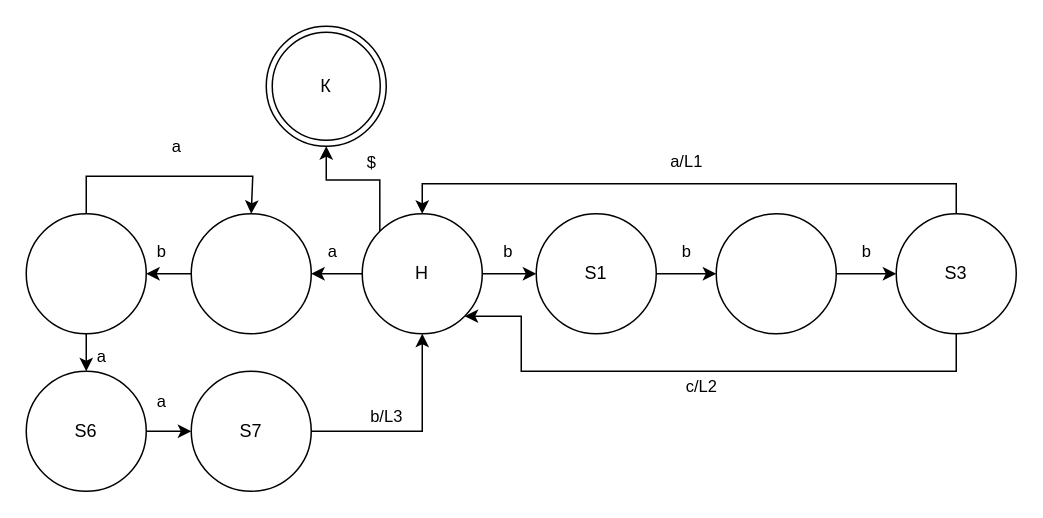
The diagram is 1043 pixels wide and 518 high, and some of its shapes have lost their labels. Here are the shapes that lost their labels. From the top down, the centre of each, then its label:
At point (85, 273): "S5".
At point (250, 273): "S4".
At point (775, 273): "S2".
